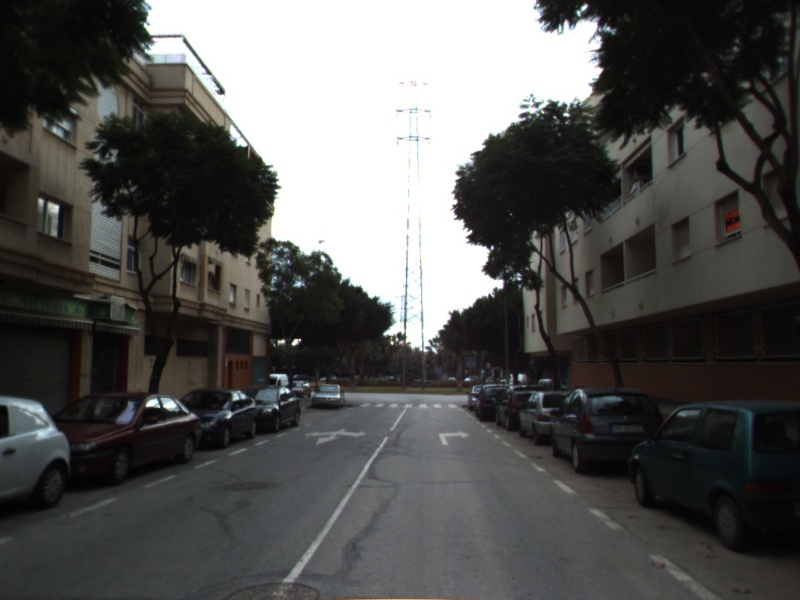RIGHT: (437, 429, 472, 447)
